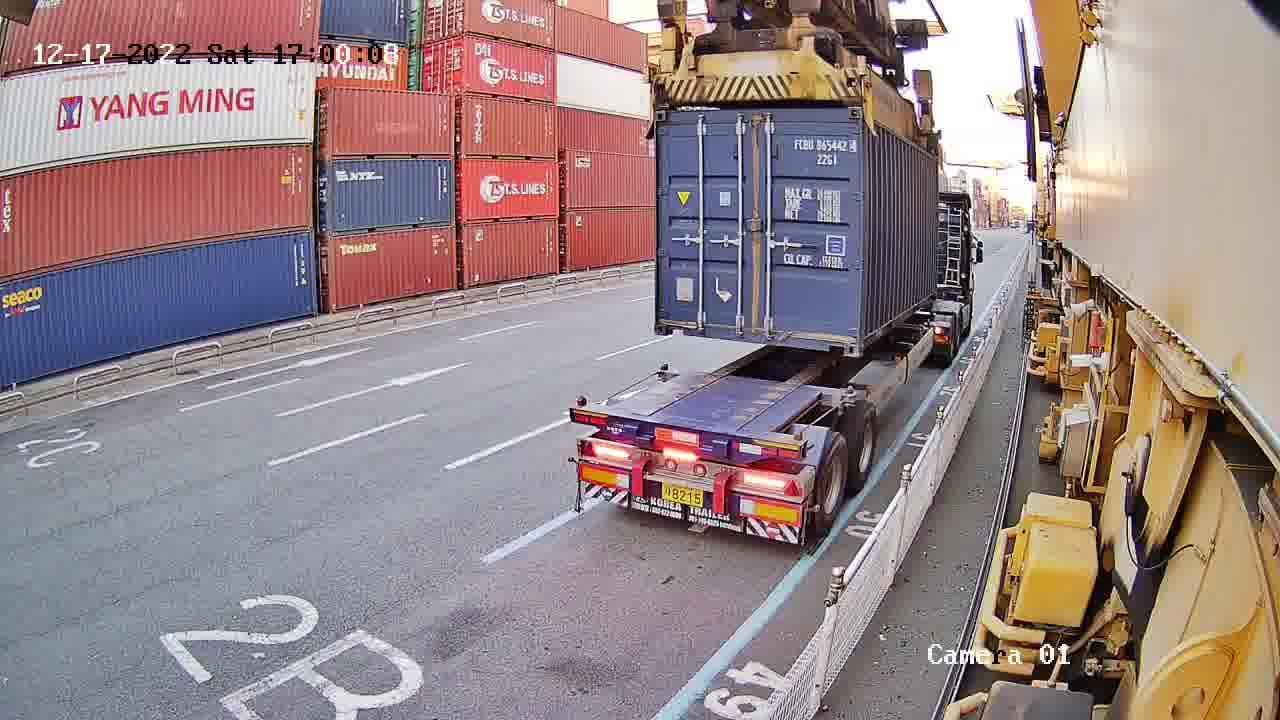Chassis: (571, 406, 804, 469), (660, 365, 862, 412)
Container: (652, 305, 861, 360)
Hole_L: (654, 304, 683, 336)
Hole_R: (831, 327, 858, 359)
Tire: (814, 435, 849, 536), (849, 406, 879, 493)
